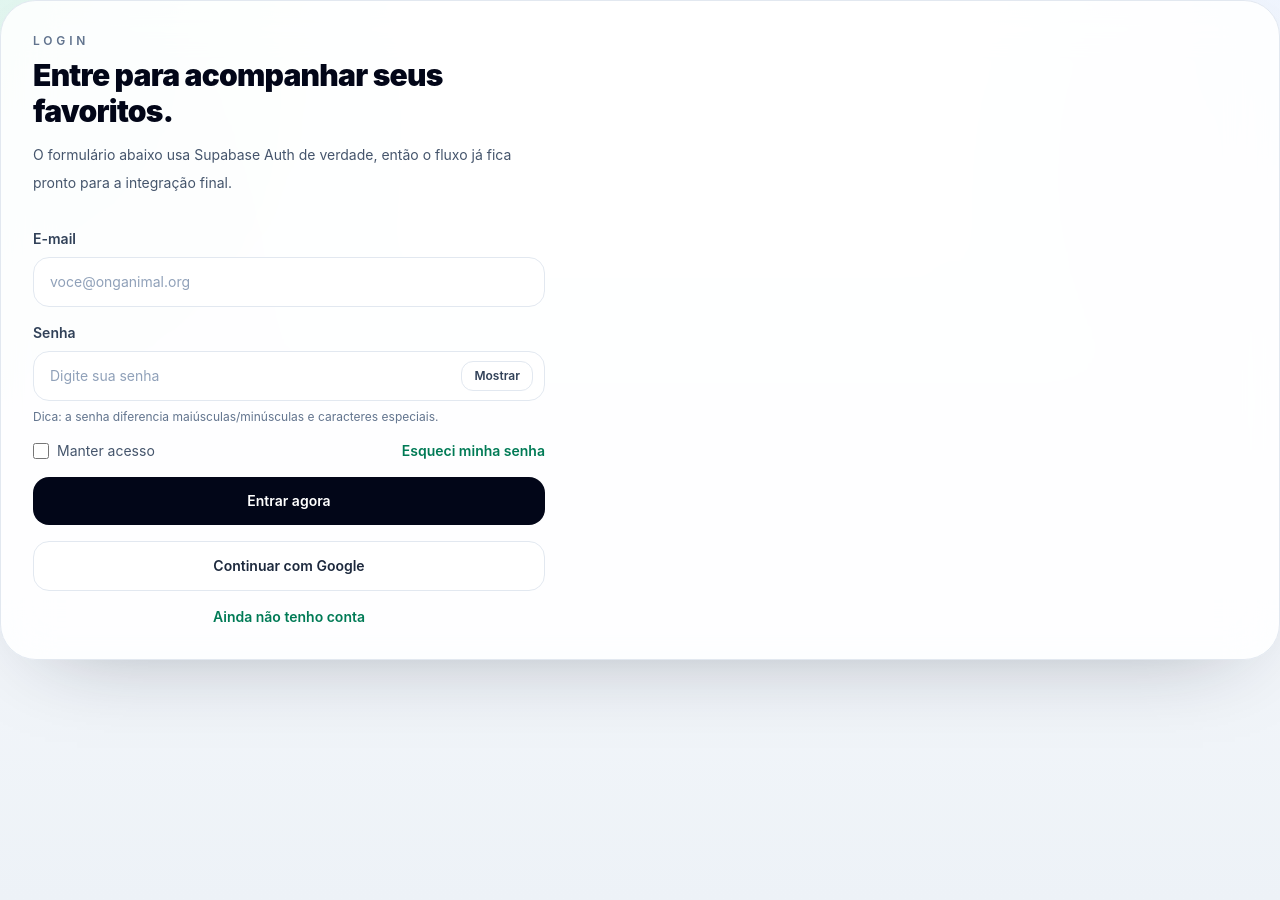
LoginForm › shows a success message after submit
Type "test@example.com" into the field with placeholder "voce@onganimal.org" at {"x": 289, "y": 282}, box top-left (33, 257), bottom-right (545, 307)
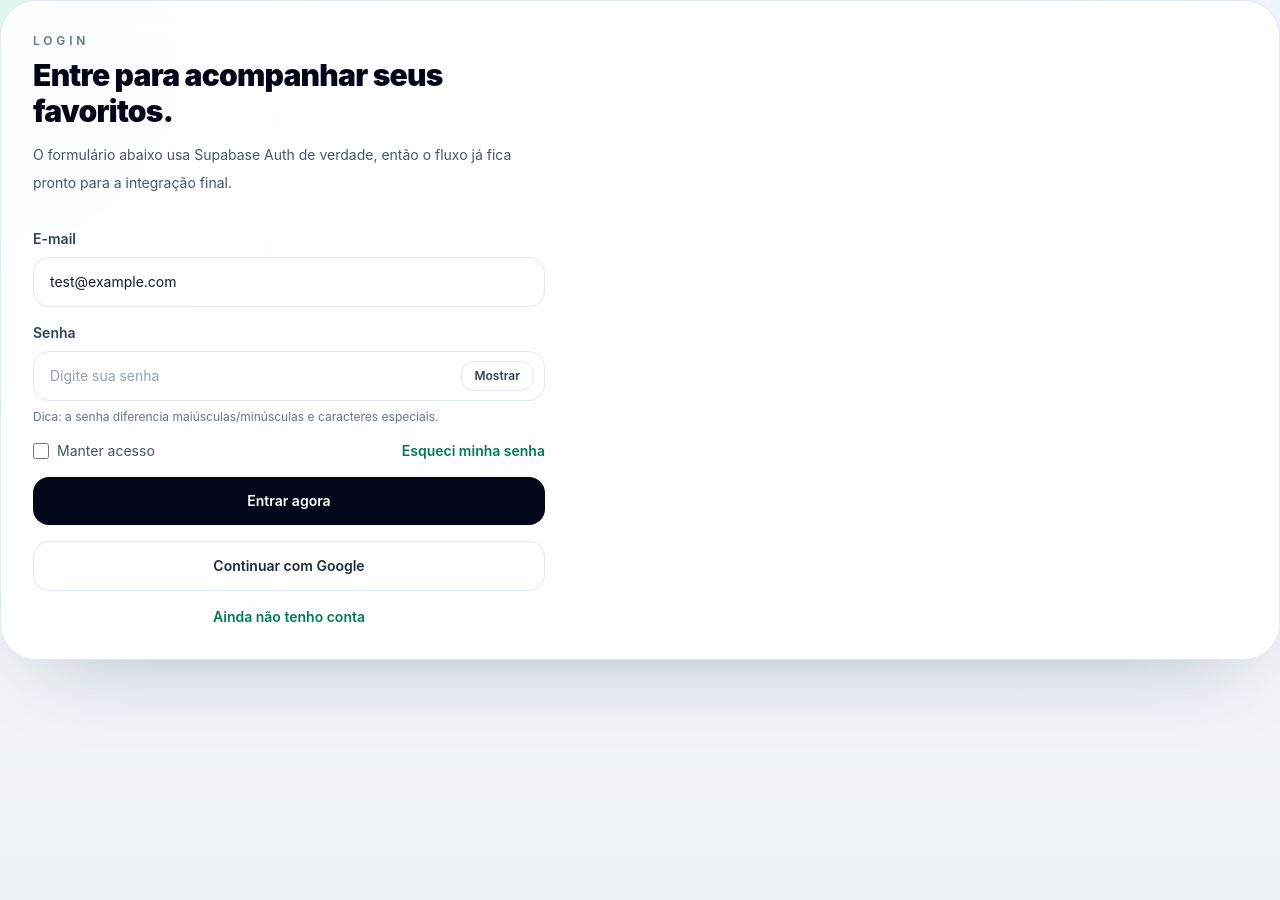
Type "secret" into the password field with placeholder "Digite sua senha" at {"x": 289, "y": 376}, box top-left (33, 351), bottom-right (545, 401)
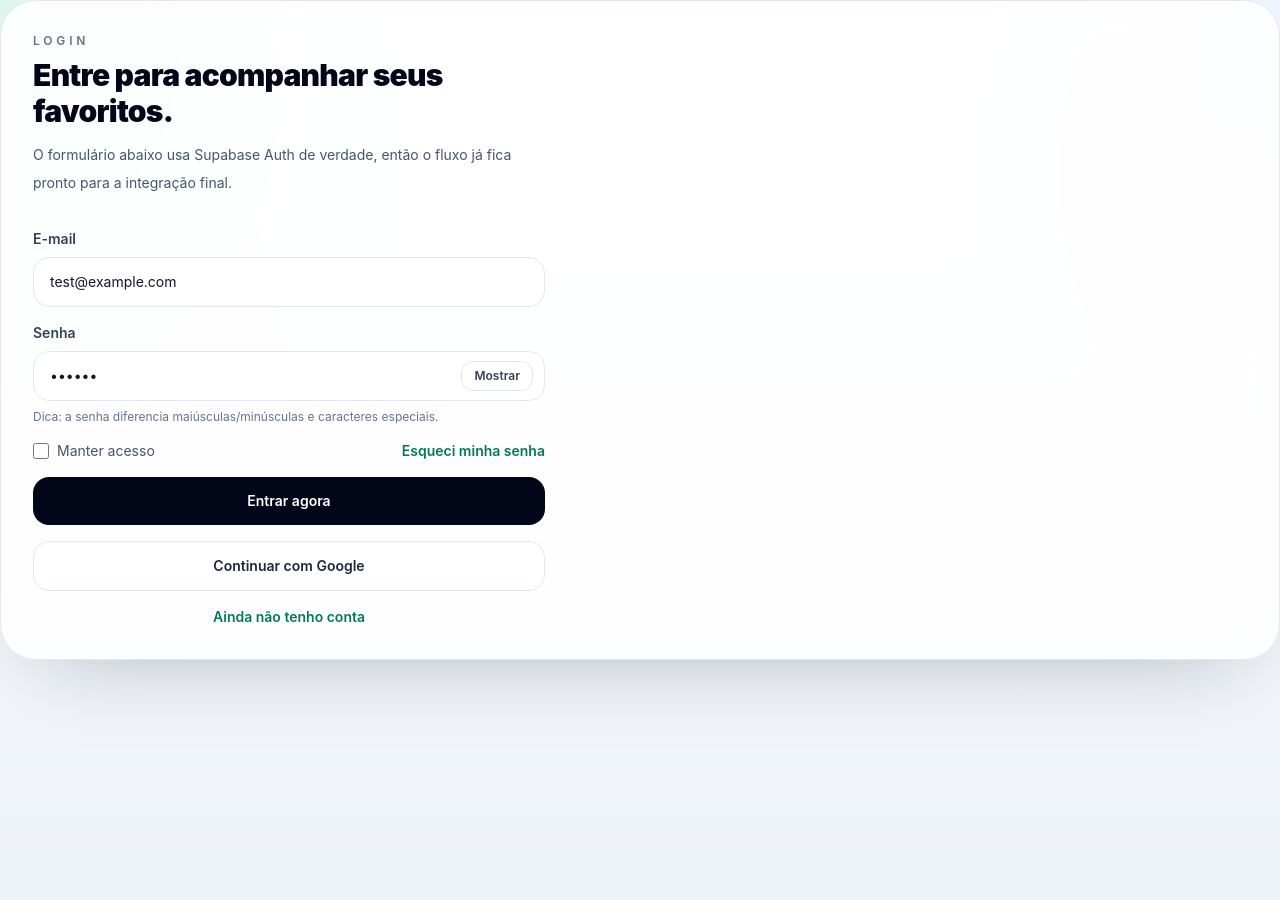
Submit the form from the button "Entrar agora", box top-left (33, 477), bottom-right (545, 525)
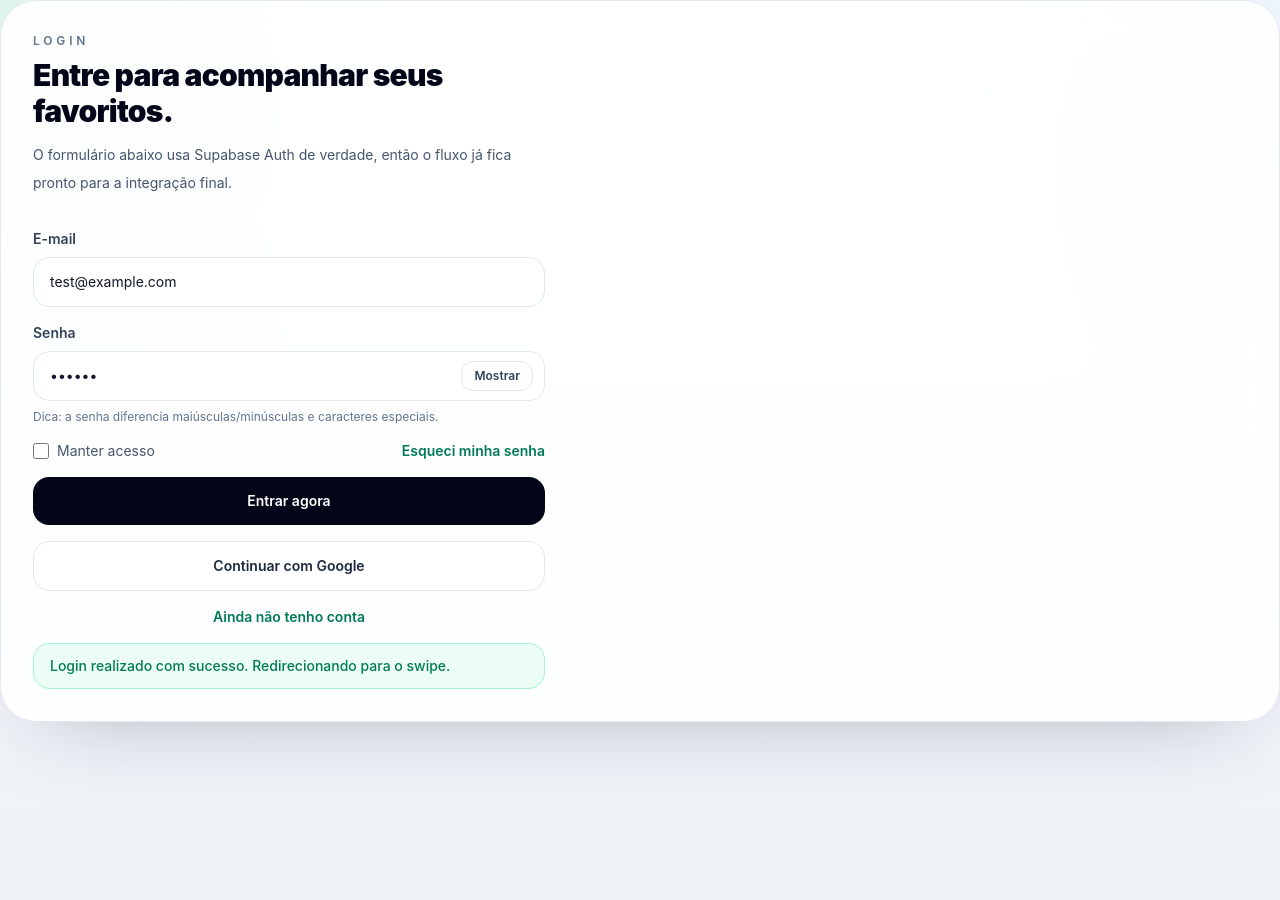
Check: the text "Login realizado com sucesso. Redirecionando para o swipe." is shown, box top-left (33, 643), bottom-right (545, 689)
